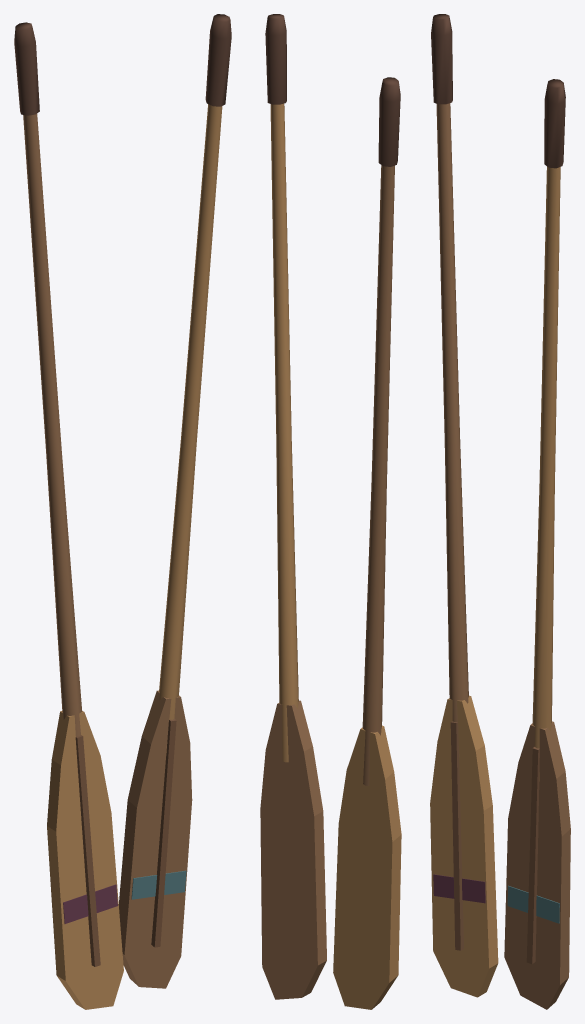
Rendered from oars.glb.
3 renders of one model, left to right at view 1: azimuth 30°, elevation 25°; view 2: azimuth 150°, elevation 25°; view 3: azimuth 330°, elevation 25°, orthographic. The views are drawn at different scales.
Visible parts, largest first — view 1: oars; view 2: oars; view 3: oars.
Part boxes in pixels (x1,y1,x2,y2): oars: (14,14,231,1009); oars: (260,14,401,1009); oars: (430,14,570,1009).
Size of the model in its own units: 0.3 by 1.6 by 0.15.
